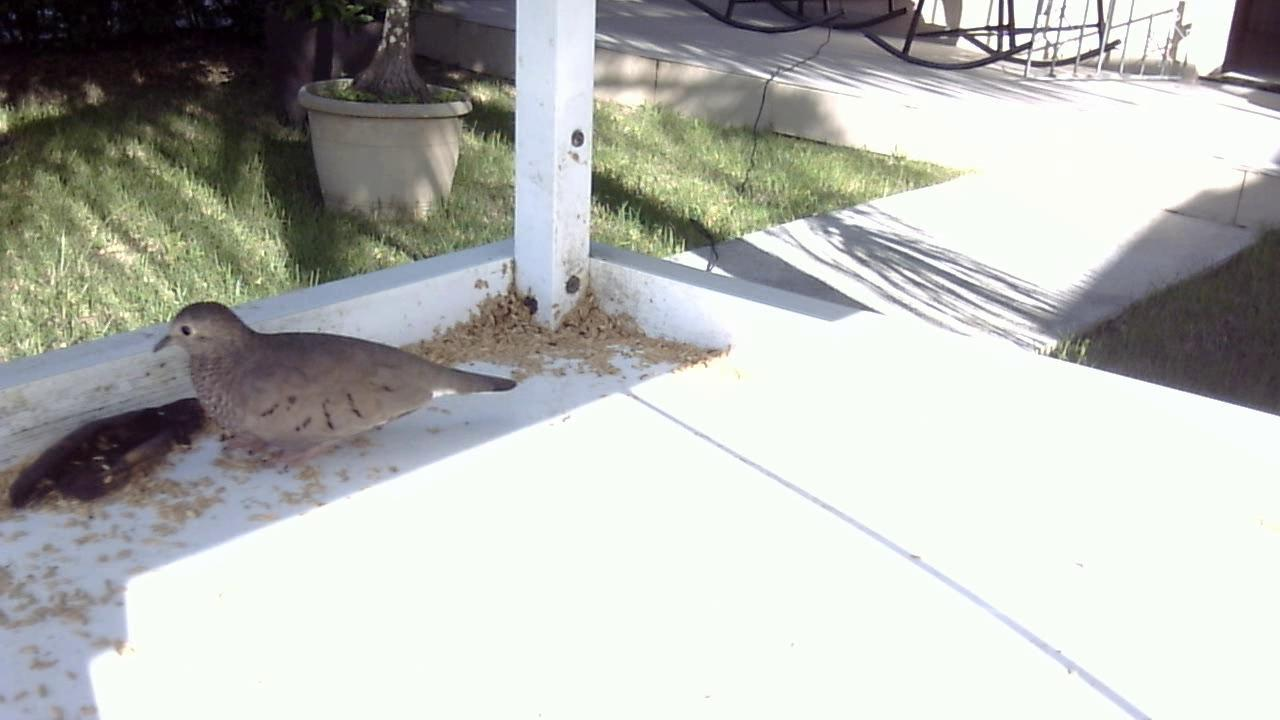rolinha: (149, 280, 531, 472)
